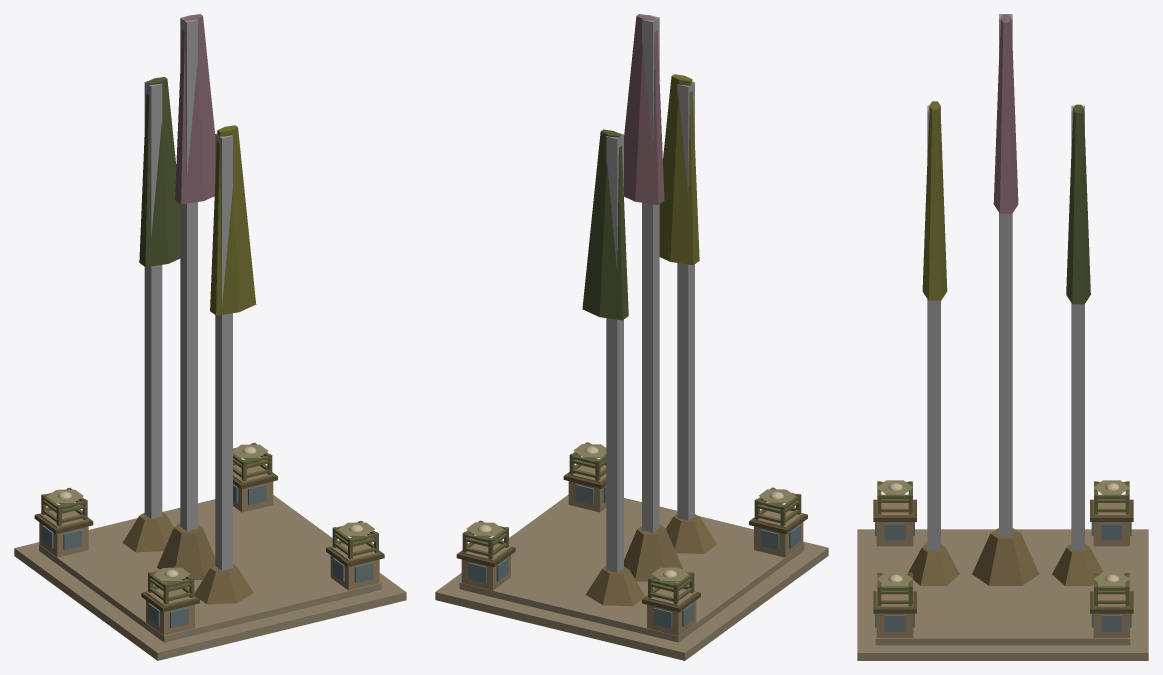
File: flagpole.fbx
3 renders of one model, left to right at view 1: azimuth 30°, elevation 25°; view 2: azimuth 150°, elevation 25°; view 3: azimuth 270°, elevation 25°, orthographic.
Visible parts, largest first — view 1: Cube.002, Cube.001, Cube, Cone, Cone.004, Cone.007, Cone.005, Cube.019, Cube.020, Cube.023, Cube.022, Cone.003; view 2: Cube.002, Cube.001, Cube, Cone.007, Cone.004, Cone.005, Cone, Cube.019, Cube.020, Cube.023, Cube.022, Cone.003; view 3: Cube.001, Cube.002, Cube, Cone, Cube.019, Cone.004, Cone.007, Cone.005, Cube.020, Cube.023, Cube.022, Cone.003.
Part boxes in pixels (box(x1,y1,x2,y2)): Cube.002: box(144, 15, 232, 570); Cube.001: box(39, 501, 381, 642); Cube: box(14, 495, 406, 660); Cone: box(122, 512, 253, 604); Cone.004: box(210, 125, 256, 315); Cone.007: box(139, 77, 180, 267); Cone.005: box(175, 14, 215, 204); Cube.019: box(39, 463, 379, 635); Cube.020: box(41, 442, 378, 604); Cube.023: box(41, 484, 373, 628); Cube.022: box(34, 465, 384, 612); Cone.003: box(46, 444, 374, 582); Cube.002: box(606, 15, 694, 572); Cube.001: box(459, 500, 804, 642); Cube: box(435, 494, 828, 660); Cone.007: box(582, 129, 628, 320); Cone.004: box(659, 74, 699, 265); Cone.005: box(624, 14, 664, 204); Cone: box(585, 514, 716, 606); Cube.019: box(461, 463, 803, 635); Cube.020: box(462, 442, 801, 604); Cube.023: box(468, 484, 800, 628); Cube.022: box(456, 465, 807, 612); Cone.003: box(466, 444, 795, 582); Cube.001: box(875, 530, 1130, 645); Cube.002: box(927, 14, 1084, 550); Cube: box(857, 529, 1148, 660); Cone: box(908, 528, 1102, 585); Cube.019: box(876, 500, 1129, 637); Cone.004: box(922, 101, 947, 300); Cone.007: box(1066, 104, 1090, 304); Cone.005: box(993, 14, 1018, 213); Cube.020: box(877, 481, 1129, 606); Cube.023: box(875, 522, 1131, 631); Cube.022: box(873, 499, 1133, 613); Cone.003: box(877, 480, 1129, 586).
Size of the model in its own units: 1246 by 2697 by 1243.
